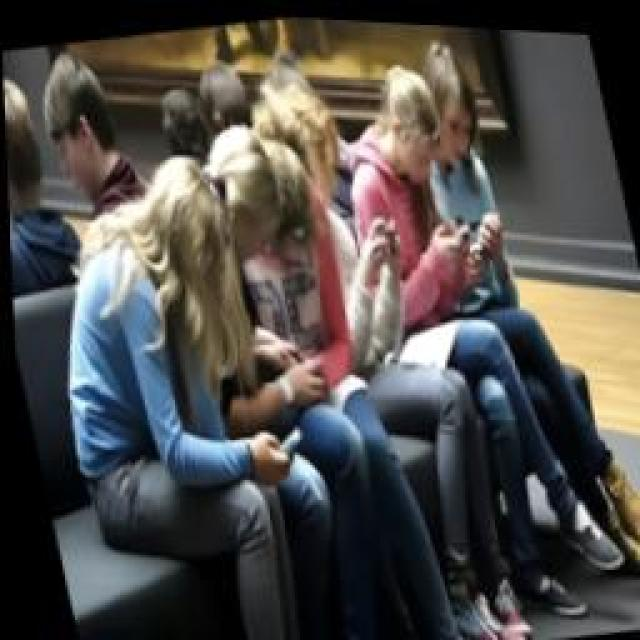phone: (15, 135, 317, 555), (268, 65, 428, 380), (185, 112, 330, 430), (325, 53, 487, 335), (405, 28, 523, 312)
